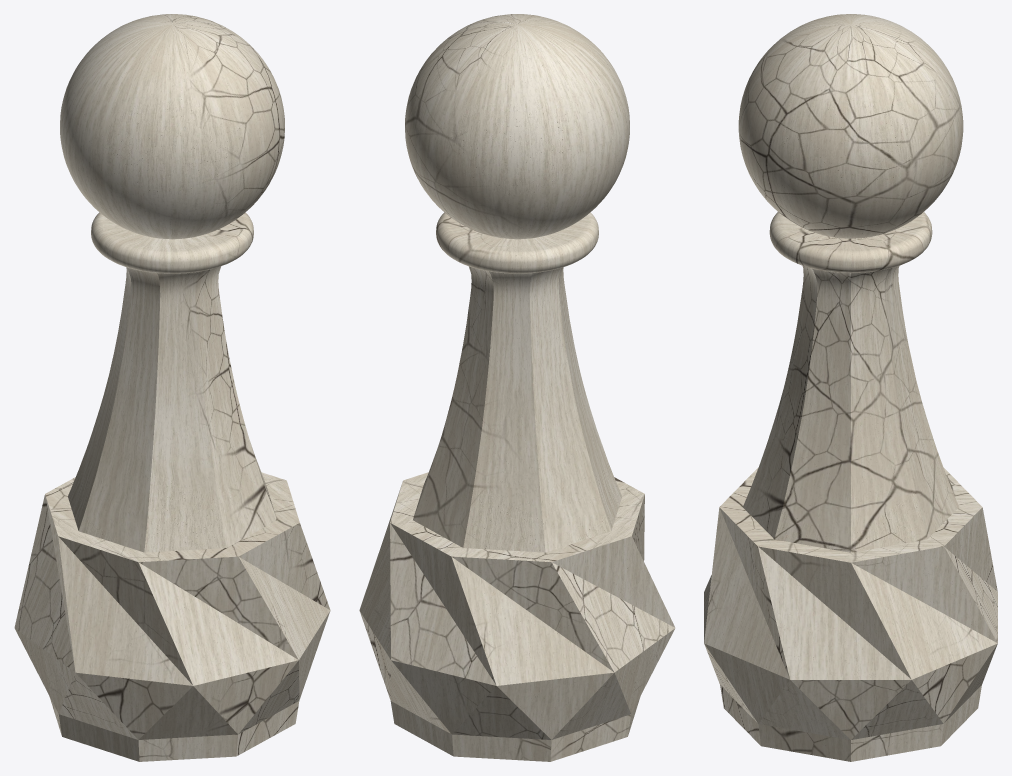
File: pawn-white.glb
3 views of the same model, side by side, from view 1: azimuth 30°, elevation 25°; view 2: azimuth 150°, elevation 25°; view 3: azimuth 270°, elevation 25° (orthographic).
Visible parts, largest first — view 1: Lithoxyl_Pawn_Ivory; view 2: Lithoxyl_Pawn_Ivory; view 3: Lithoxyl_Pawn_Ivory.
Part boxes in pixels (x1=…): Lithoxyl_Pawn_Ivory: x1=14, y1=14, x2=330, y2=761; Lithoxyl_Pawn_Ivory: x1=359, y1=14, x2=675, y2=761; Lithoxyl_Pawn_Ivory: x1=704, y1=14, x2=997, y2=761.
Size of the model in its own units: 0.3739 by 0.96 by 0.3739.
Materials: 1 (1 with a texture image).
